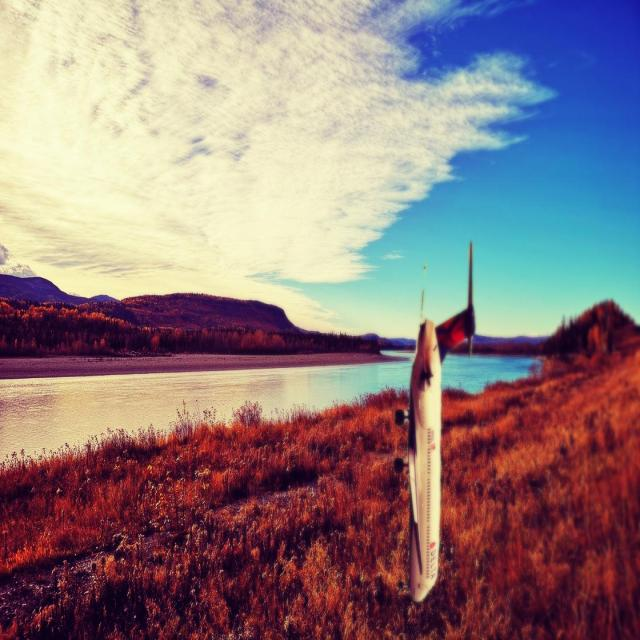airplane: (397, 240, 475, 602)
